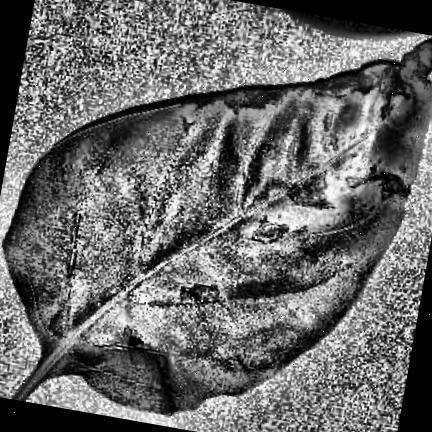leaf: (3, 37, 432, 413)
